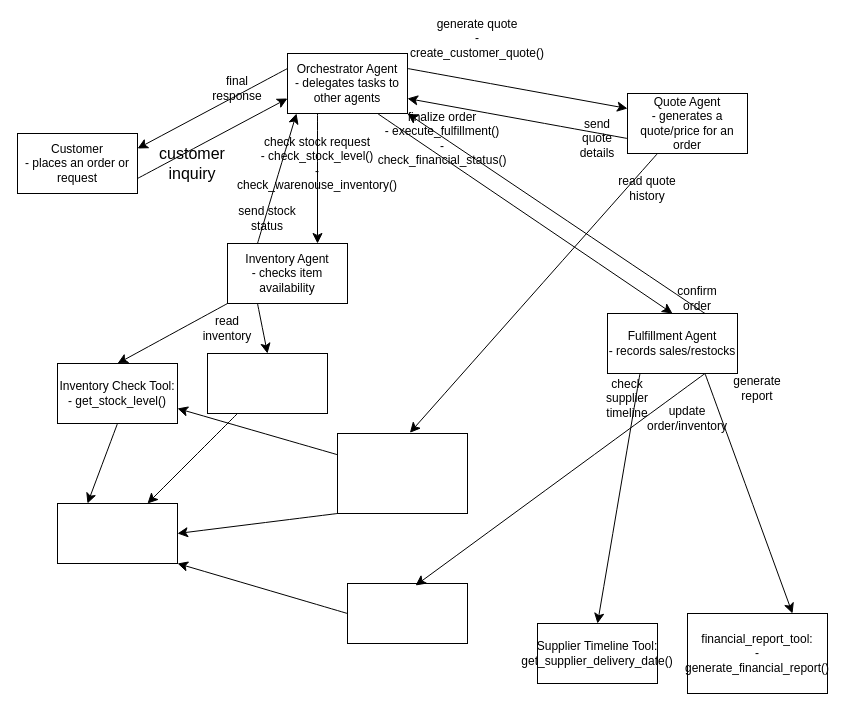
This 847x711 diagram has some shape labels left out. The box of each missing label's shape, as (x1, y1, x2, y2) in pixels:
Company SQLite Database: (56, 502, 178, 564)
Fulfill Order Tool: - create_transaction() - get_cash_balance(): (346, 582, 468, 644)
Inventory Snapshot Tool: - get_all_inventory(): (206, 352, 328, 414)
Quote Generation tool: - search_quote_history() - inventory_check_tool(): (336, 432, 468, 514)
